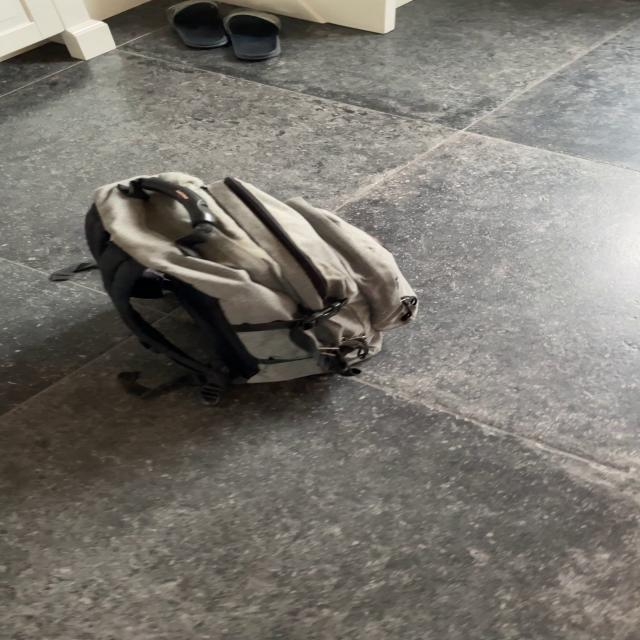backpack: (67, 167, 430, 398)
